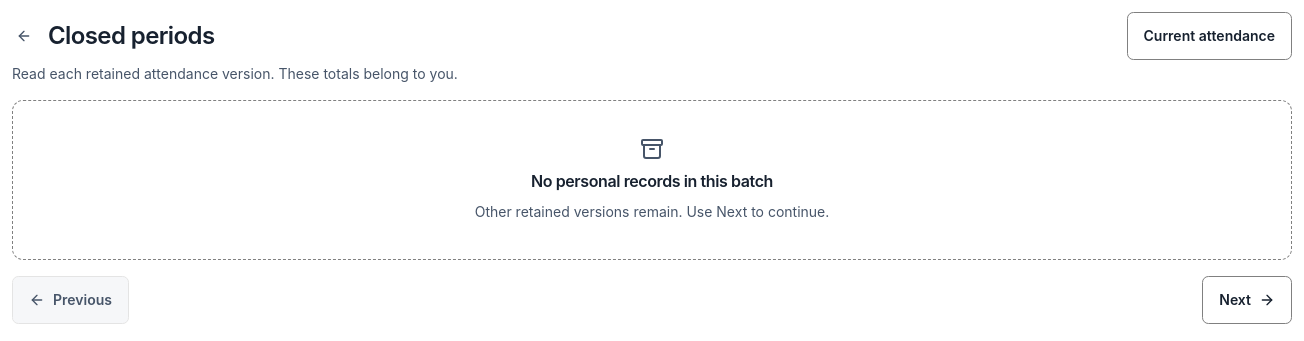
Test: distinguishes empty frozen history batches from exhausted personal history
The width and height of the screenshot is (1304, 341).
Expected: the text "No personal records in this batch" is shown, [531,169,773,193]
Click the button "Next".
click(1247, 300)  # box [1202,276,1292,324]
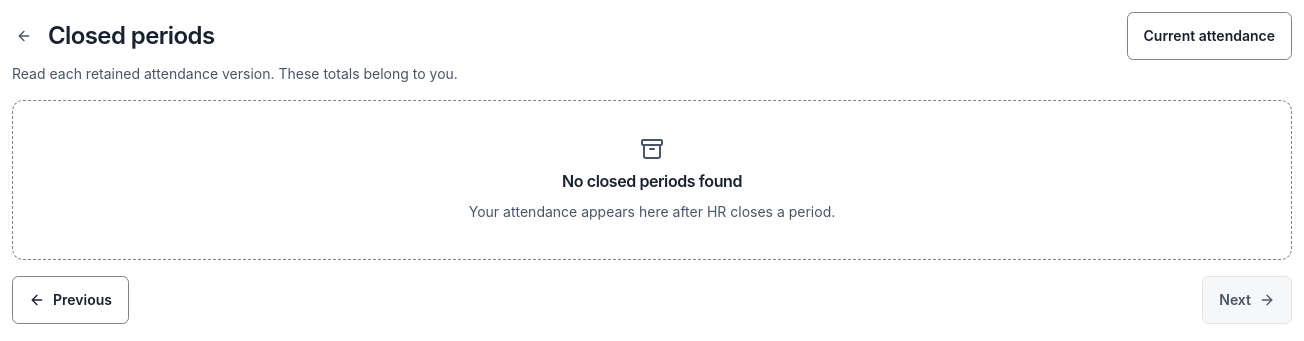
Expected: the text "No closed periods found" is shown, [562,169,742,193]
Expected: the button "Next" is disabled, [1202,276,1292,324]
